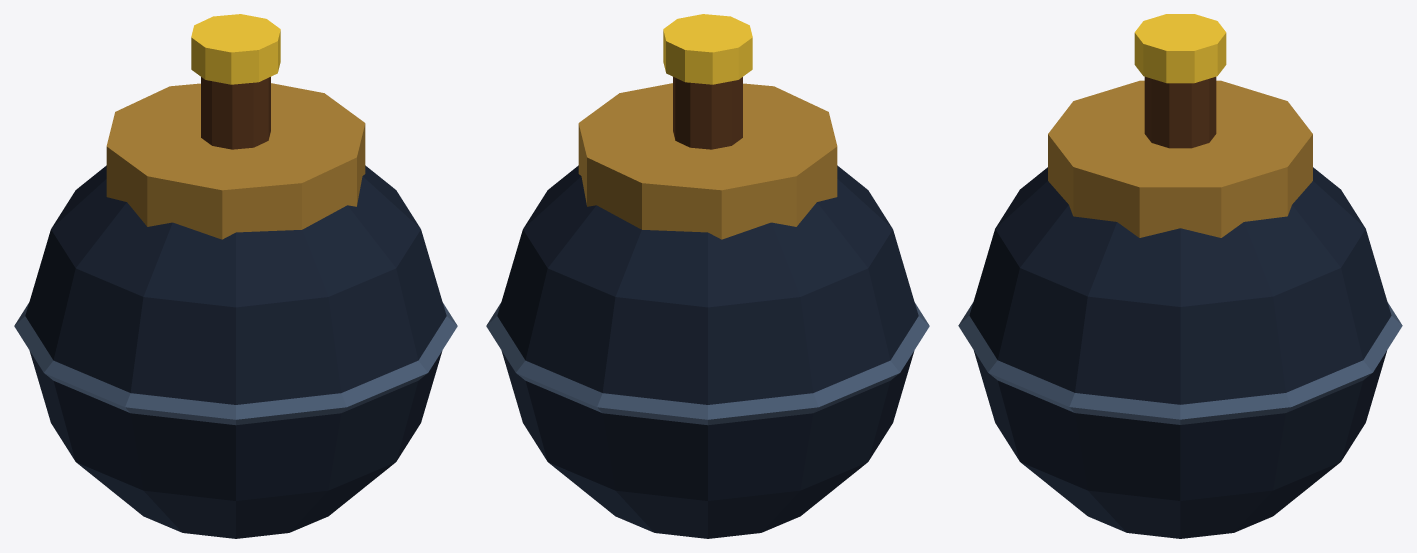
File: Bomb.fbx
3 renders of one model, left to right at view 1: azimuth 30°, elevation 25°; view 2: azimuth 150°, elevation 25°; view 3: azimuth 270°, elevation 25°, orthographic.
Visible parts, largest first — view 1: BlenderBomb; view 2: BlenderBomb; view 3: BlenderBomb.
Boxes of the visible parts, left/top/right/bottom form: BlenderBomb: left=14, top=14, right=457, bottom=538; BlenderBomb: left=486, top=14, right=929, bottom=538; BlenderBomb: left=958, top=14, right=1402, bottom=538.
Size of the model in its own units: 43.6 by 52.75 by 43.6.
Materials: 1 (1 with a texture image).
